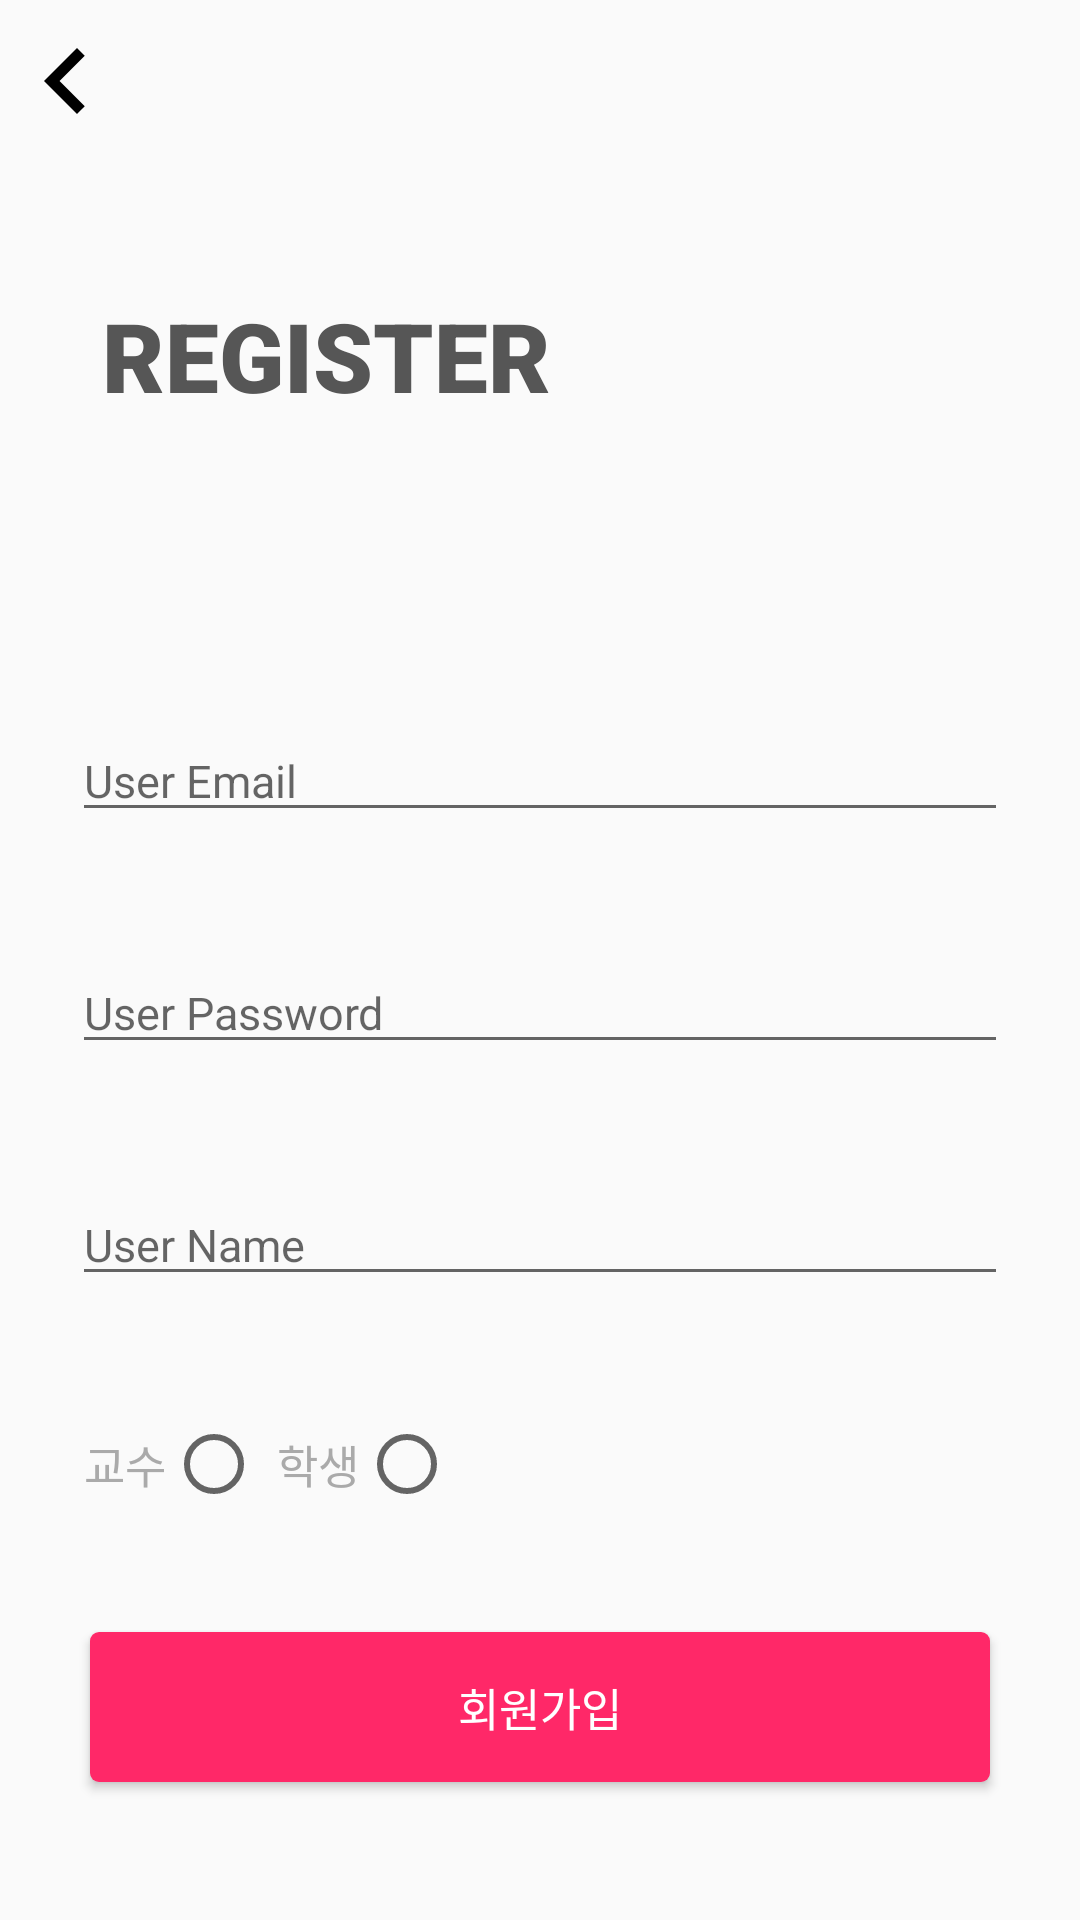

Point at icon controls on the screen. Image size 1080px x 1920px, points as point (x, y).
chevron left: point (64, 81)
